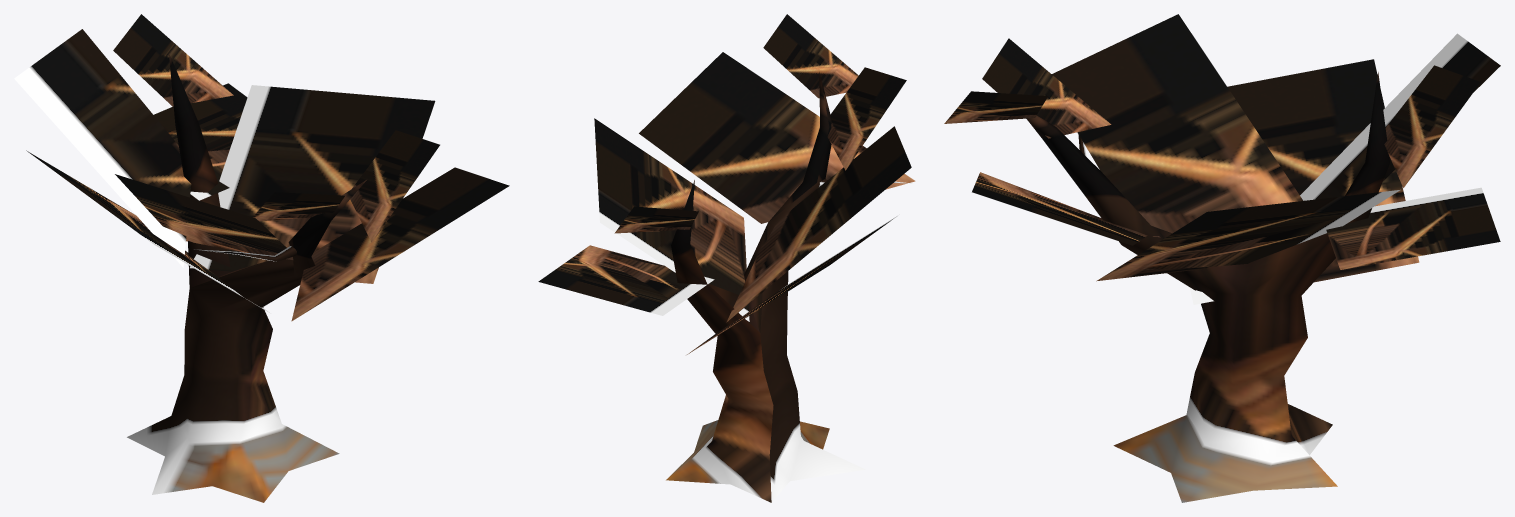
Rendered from oVgtTree01.FBX.
3 renders of one model, left to right at view 1: azimuth 30°, elevation 25°; view 2: azimuth 150°, elevation 25°; view 3: azimuth 270°, elevation 25°, orthographic. The views are drawn at different scales.
Visible parts, largest first — view 1: oVgtTree01; view 2: oVgtTree01; view 3: oVgtTree01.
Part boxes in pixels (x1,y1,x2,y2): oVgtTree01: (14, 14, 509, 502); oVgtTree01: (538, 14, 915, 502); oVgtTree01: (944, 14, 1500, 502).
Size of the model in its own units: 23.89 by 25.86 by 31.54.
Materials: 1 (1 with a texture image).
